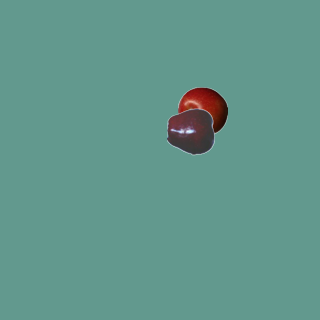Apple Braeburn: (177, 86, 227, 136)
Apple Red Delicious: (166, 106, 216, 156)
